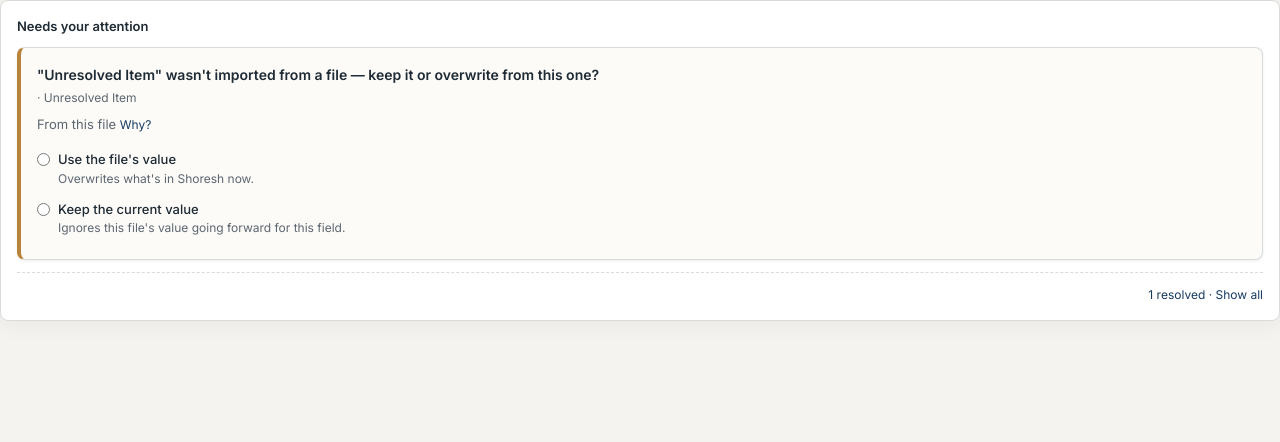
Test: RootMapPanel default view scoping (H1 fix) › reveals the full list, including resolved items, when the reveal control is clicked
Click the button "1 resolved · Show all" at (1206, 294), box [1148,287,1263,302]
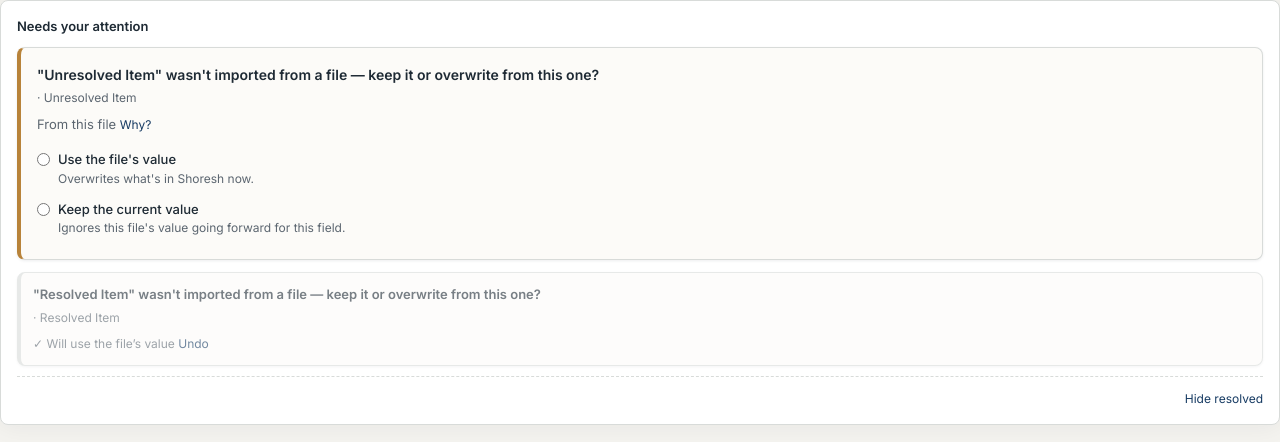
Expected: the text "resolved Item" is shown, [37,66,599,82]
Now the button "Hide resolved" is shown, box [1185,390,1263,406]
